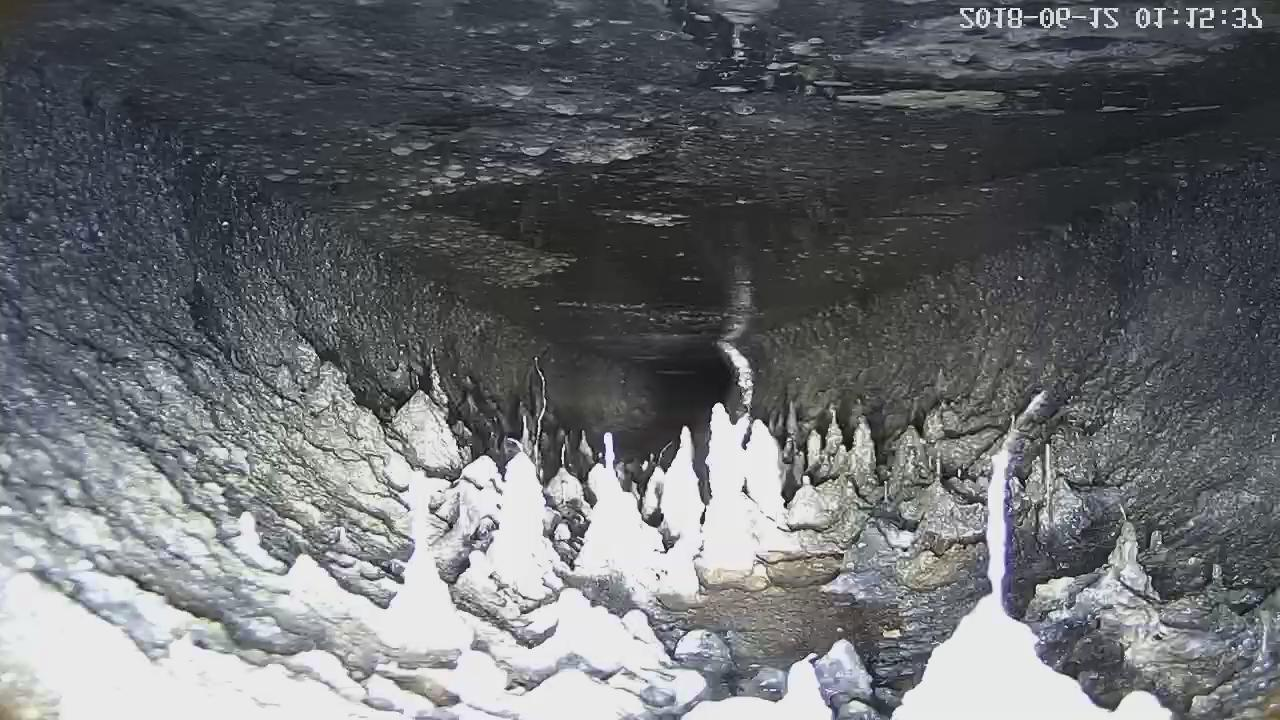FZ: (42, 1, 1279, 342)
JG: (0, 71, 1279, 720)
